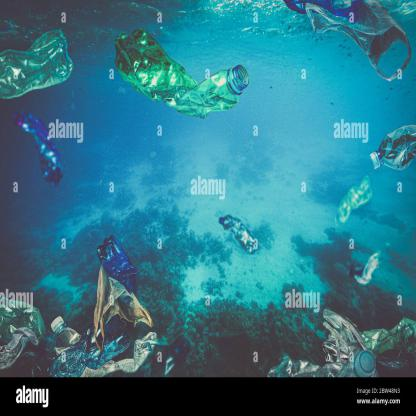bottle: (118, 28, 250, 120), (2, 29, 73, 97), (15, 111, 66, 188), (84, 332, 158, 378), (1, 294, 58, 353), (96, 235, 141, 298), (356, 315, 415, 357), (369, 123, 415, 173), (334, 175, 374, 227), (219, 214, 261, 255), (156, 336, 192, 379), (50, 315, 88, 349)
plastic-bag: (305, 0, 413, 84), (95, 264, 154, 346)
